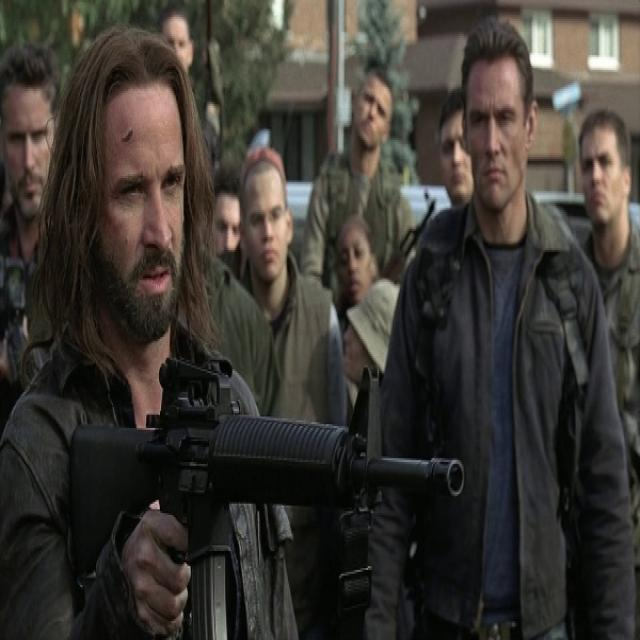rifle: (61, 348, 471, 640)
